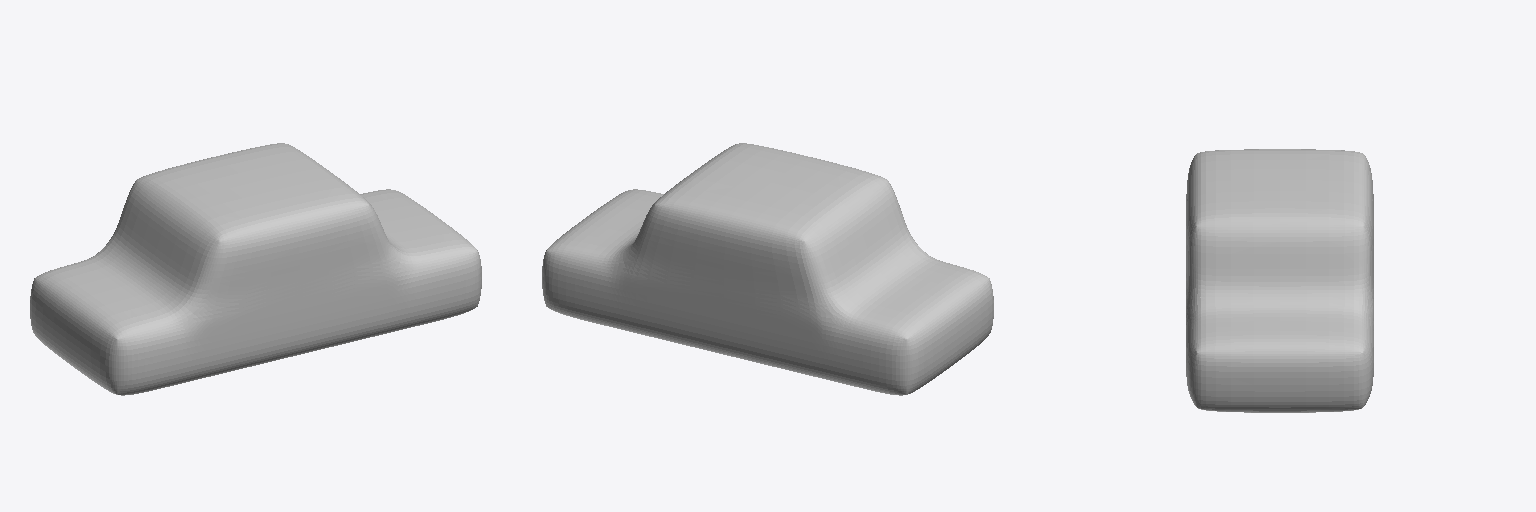
Rendered from mobieus_car.obj.
The picture shows the model from 3 angles: view 1: azimuth 30°, elevation 25°; view 2: azimuth 150°, elevation 25°; view 3: azimuth 270°, elevation 25°; orthographic projection.
Parts seen in each view (by area): view 1: Cube; view 2: Cube; view 3: Cube.
Boxes of the visible parts, box(x1,y1,x2,y2) form: Cube: box(30, 143, 481, 395); Cube: box(542, 143, 993, 395); Cube: box(1186, 149, 1373, 412).
Size of the model in its own units: 9.46 by 3.54 by 4.08.